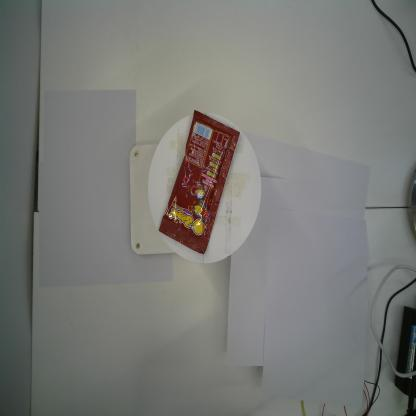Candy: (156, 107, 241, 253)
